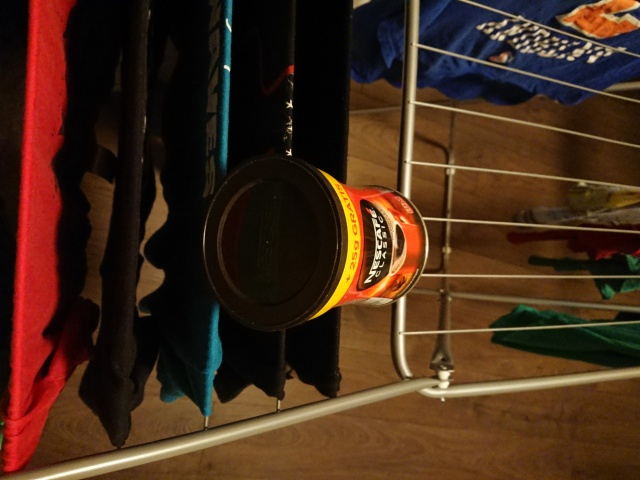Nescafe Classic 225g: (196, 151, 434, 335)
